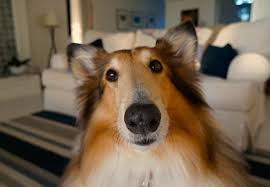dog: (100, 56, 172, 148)
